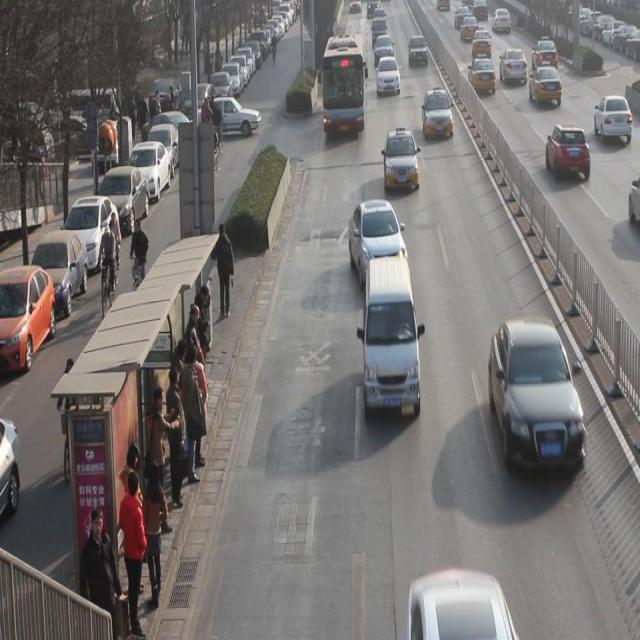car: (489, 316, 586, 476), (348, 198, 408, 274), (546, 122, 590, 183), (384, 126, 419, 190), (594, 94, 632, 142), (423, 88, 454, 138), (528, 62, 562, 106), (467, 51, 497, 96), (499, 45, 528, 88), (376, 55, 401, 94), (532, 34, 559, 66), (472, 24, 492, 60), (408, 33, 428, 68), (460, 14, 479, 41), (375, 33, 393, 61)
truck: (364, 257, 421, 416)
van: (321, 33, 364, 134)
